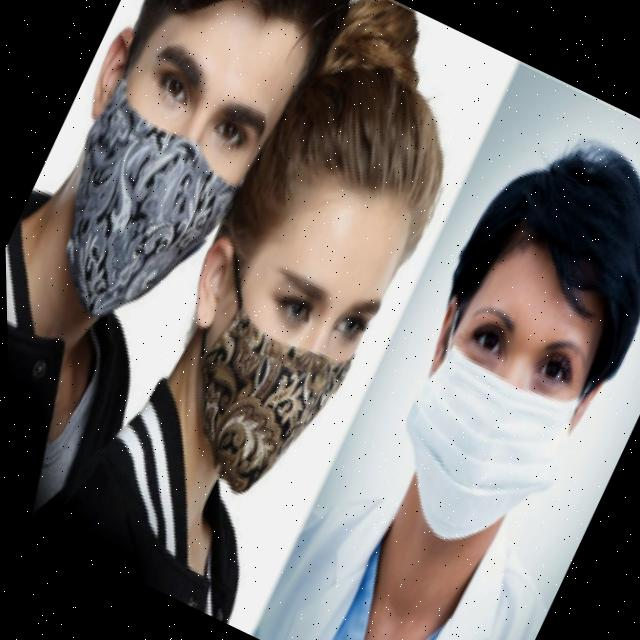Mask: (3, 36, 276, 339), (125, 234, 379, 504), (361, 296, 609, 558)
